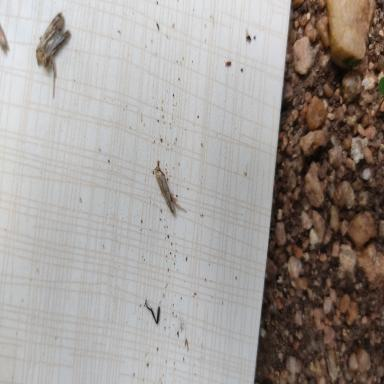pbw: (36, 12, 71, 99), (154, 160, 187, 214)
